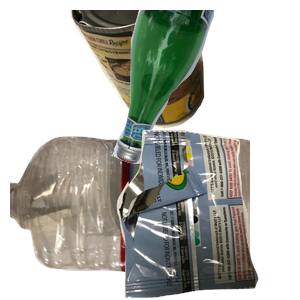glass: (109, 10, 300, 167)
metal: (68, 10, 265, 131)
plastic: (10, 134, 250, 300)
trash: (114, 130, 300, 300)
